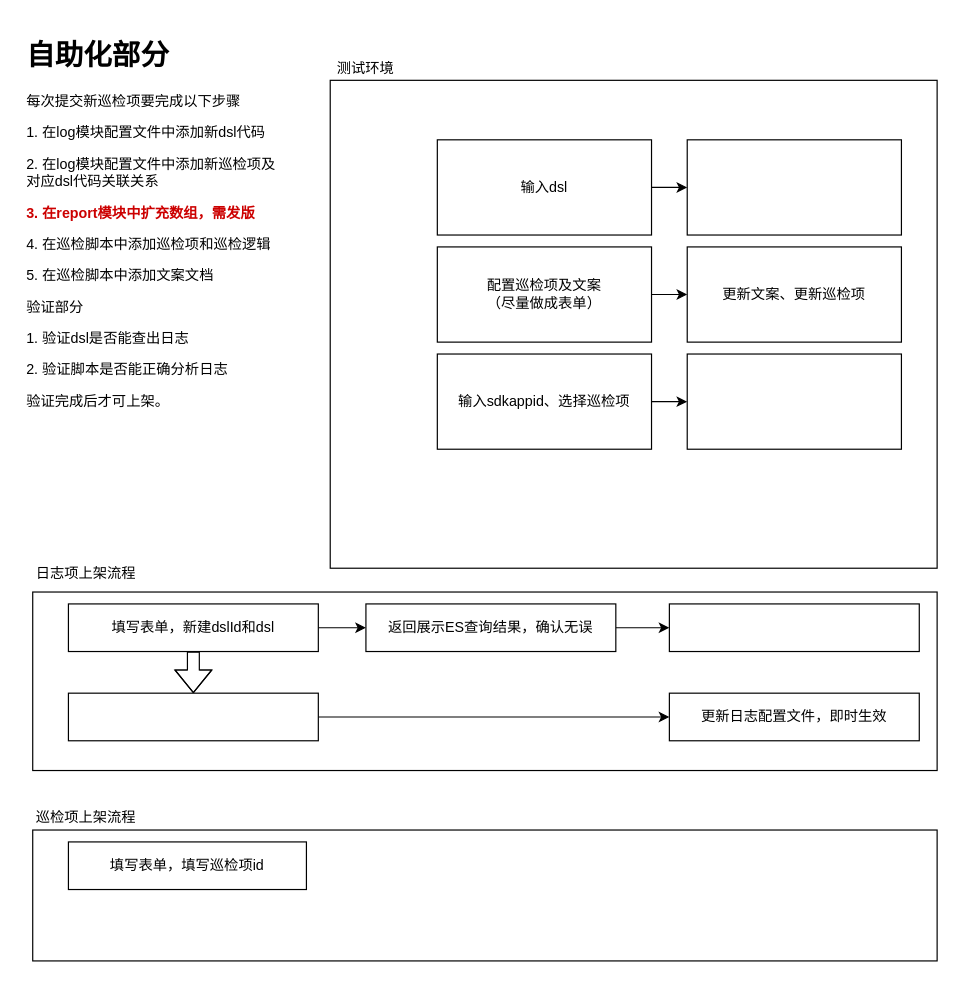
The diagram is 958 pixels wide and 982 high, and some of its shapes have lost their labels. Each missing label, with the box of its shape:
在后台文件夹中生成dsl模板文件: (668, 603, 919, 652)
填写表单，新建日志项和dslId的映射(或在已有日志项上追加dsl）: (67, 692, 318, 741)
返回部分非加工后日志: (686, 139, 901, 235)
返回验证结果: (686, 353, 901, 449)
